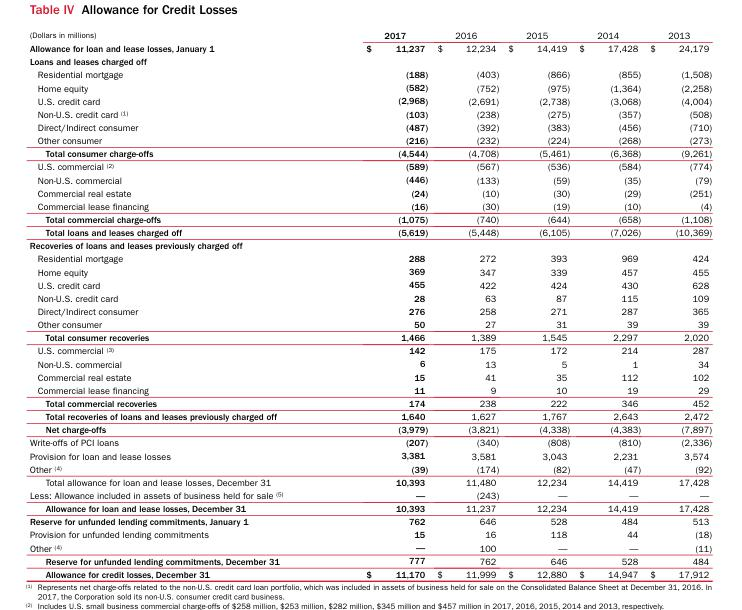table: (28, 29, 711, 579)
table column: (28, 29, 323, 579), (323, 29, 431, 579), (431, 29, 502, 579), (502, 29, 573, 579), (573, 29, 644, 579), (644, 29, 711, 579)
table column header: (28, 29, 711, 41)
table projected row header: (28, 54, 711, 67), (28, 238, 711, 251)
table row: (28, 93, 711, 107), (28, 185, 711, 199), (28, 277, 711, 291), (28, 369, 711, 383), (28, 461, 711, 475), (28, 553, 711, 567), (28, 41, 711, 54), (28, 54, 711, 67), (28, 67, 711, 80), (28, 80, 711, 93), (28, 107, 711, 120), (28, 120, 711, 133), (28, 133, 711, 146), (28, 146, 711, 159), (28, 159, 711, 172), (28, 172, 711, 185), (28, 199, 711, 212), (28, 212, 711, 225), (28, 225, 711, 238), (28, 238, 711, 251), (28, 251, 711, 264), (28, 264, 711, 277), (28, 291, 711, 304), (28, 304, 711, 317), (28, 317, 711, 330), (28, 330, 711, 343), (28, 343, 711, 356), (28, 356, 711, 369), (28, 383, 711, 396), (28, 396, 711, 409), (28, 409, 711, 422), (28, 422, 711, 435), (28, 435, 711, 448), (28, 448, 711, 461), (28, 475, 711, 488), (28, 488, 711, 501), (28, 501, 711, 514), (28, 514, 711, 527), (28, 527, 711, 540), (28, 540, 711, 553), (28, 29, 711, 41), (28, 567, 711, 579)
